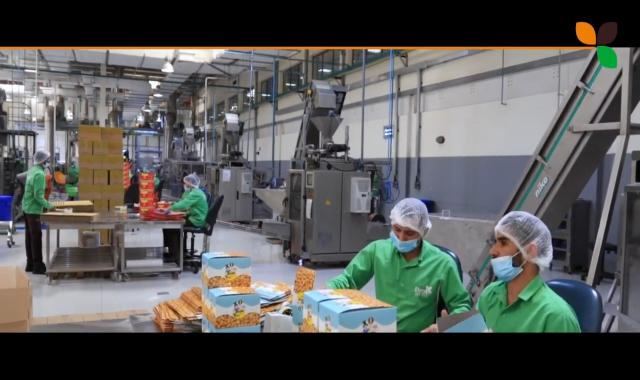hairnet: (492, 209, 553, 282), (390, 197, 430, 251), (182, 174, 200, 190), (33, 150, 49, 166)
